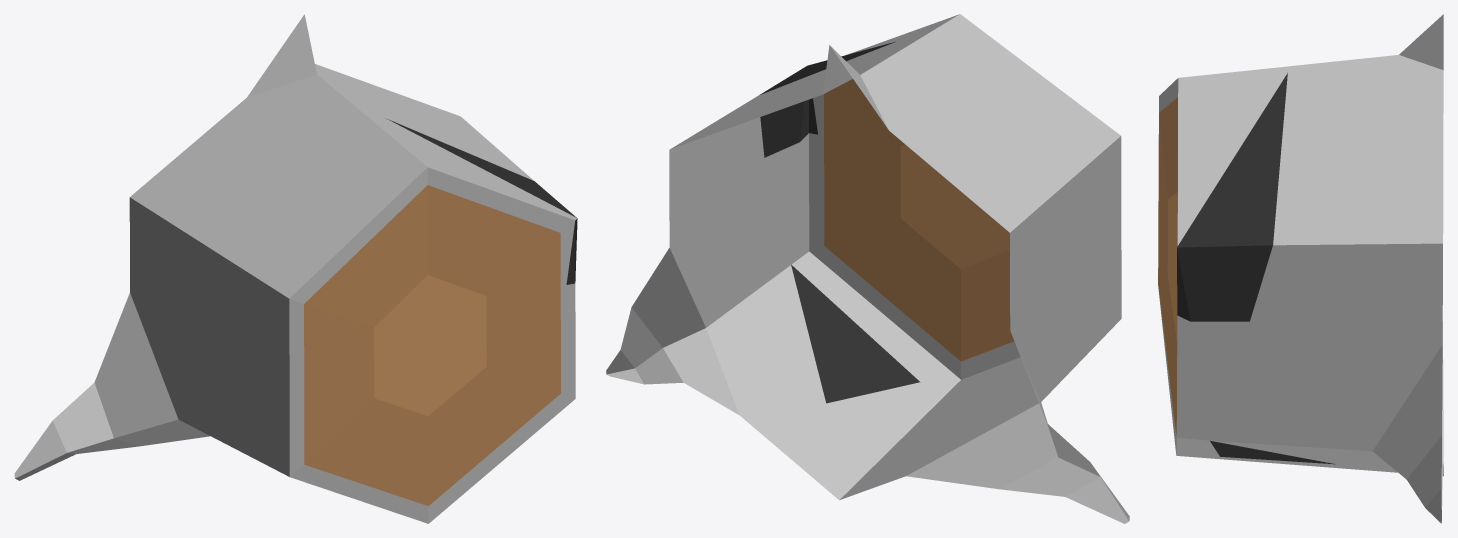
File: birch_stump.fbx
3 views of the same model, side by side, from view 1: azimuth 30°, elevation 25°; view 2: azimuth 150°, elevation 25°; view 3: azimuth 270°, elevation 25° (orthographic). The views are drawn at different scales.
Visible parts, largest first — view 1: birch_stump; view 2: birch_stump; view 3: birch_stump.
Boxes of the visible parts, bbox=[...] form: birch_stump: bbox=[14, 14, 577, 523]; birch_stump: bbox=[606, 14, 1129, 523]; birch_stump: bbox=[1158, 14, 1443, 523].
Size of the model in its own units: 0.2782 by 0.23 by 0.1275.
